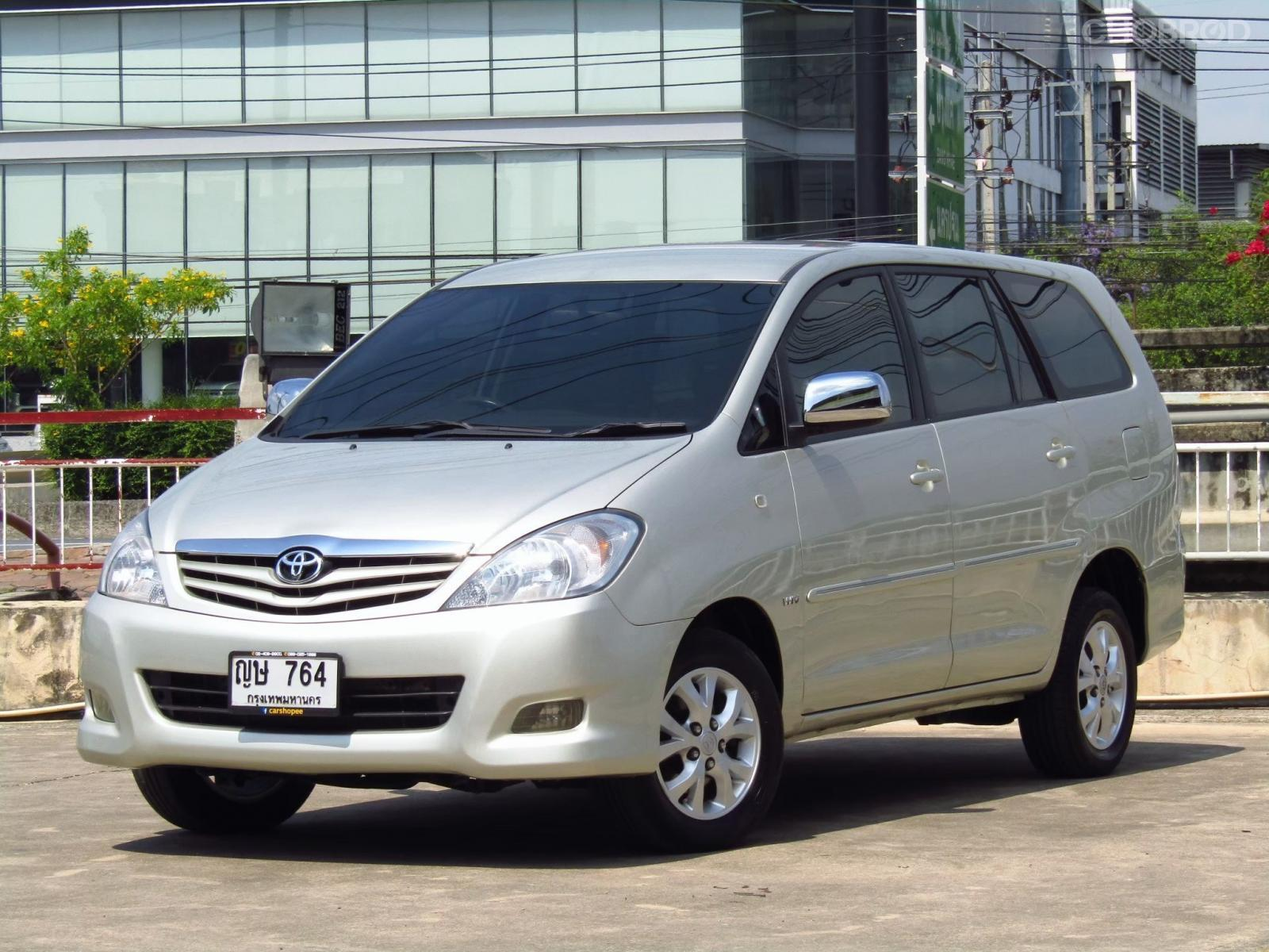license-plate: (225, 645, 348, 724)
